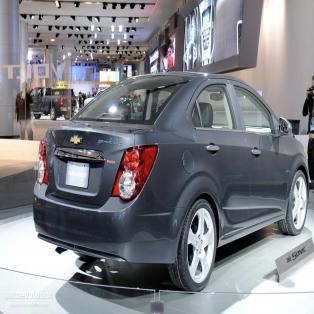Auto: (32, 69, 310, 292)
